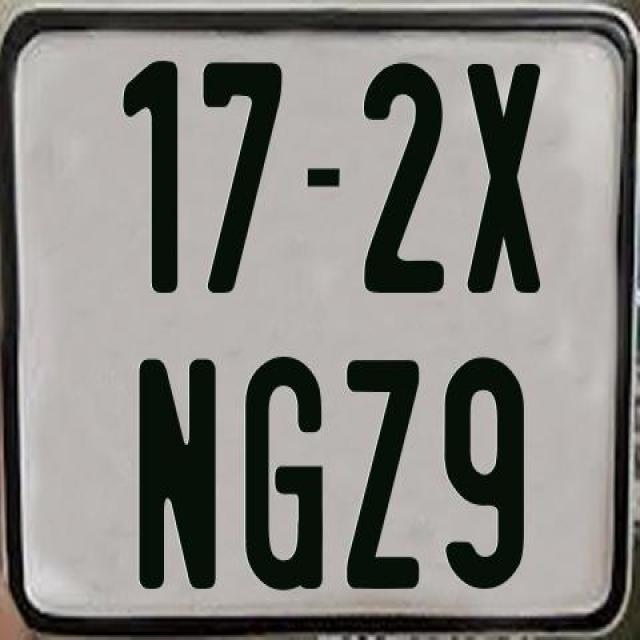1: (119, 56, 174, 293)
2: (360, 58, 447, 292)
7: (202, 58, 282, 294)
9: (442, 357, 530, 590)
G: (241, 354, 324, 588)
N: (134, 356, 212, 590)
X: (465, 64, 540, 293)
Z: (346, 357, 426, 590)
